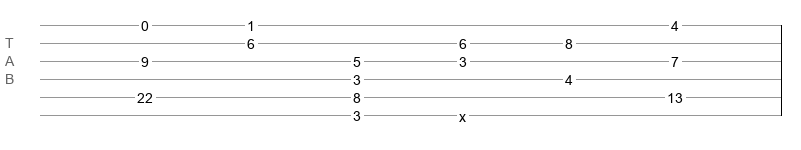0: (141, 18, 149, 28)
1: (247, 18, 255, 28)
13: (667, 90, 683, 100)
22: (137, 90, 153, 100)
3: (353, 72, 361, 82), (353, 108, 361, 118), (459, 54, 467, 64)
4: (565, 72, 573, 82), (671, 18, 679, 28)
5: (353, 54, 361, 64)
6: (247, 36, 255, 46), (459, 36, 467, 46)
7: (671, 54, 679, 64)
8: (353, 90, 361, 100), (565, 36, 573, 46)
9: (141, 54, 149, 64)
x: (459, 109, 466, 117)
